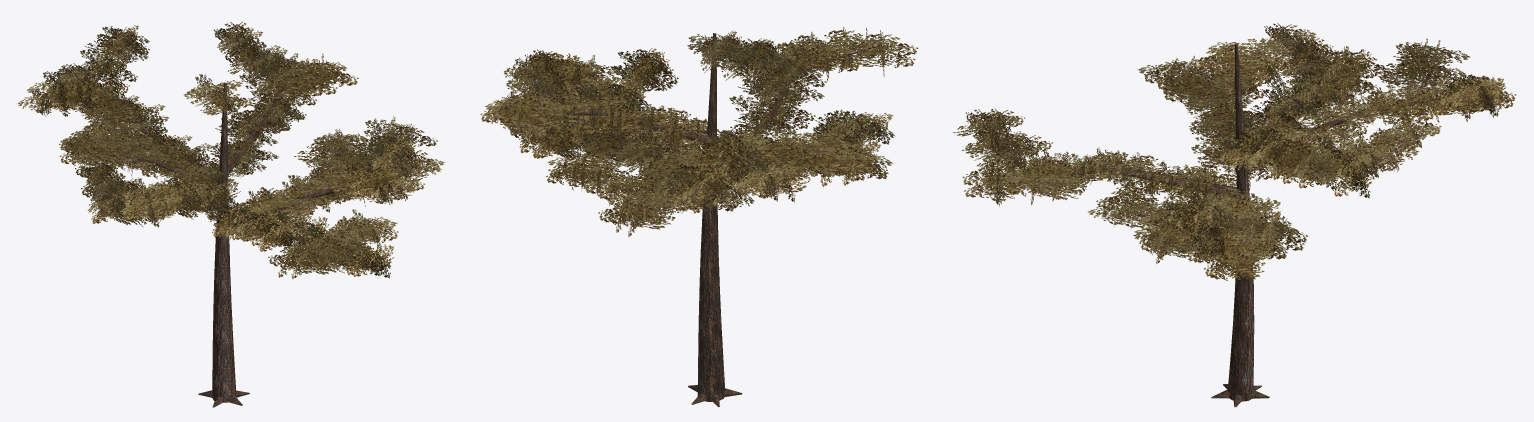
The model's file is tree_3d_05_golden_beige_lod0.glb.
3 views of the same model, side by side, from view 1: azimuth 30°, elevation 25°; view 2: azimuth 150°, elevation 25°; view 3: azimuth 270°, elevation 25° (orthographic). The views are drawn at different scales.
Visible parts, largest first — view 1: foliage_cards, wood_geometry; view 2: foliage_cards, wood_geometry; view 3: foliage_cards, wood_geometry.
Part boxes in pixels (box(x1,y1,x2,y2)): foliage_cards: box(17, 21, 445, 279); wood_geometry: box(51, 46, 410, 407); foliage_cards: box(480, 26, 918, 237); wood_geometry: box(537, 33, 864, 407); foliage_cards: box(953, 23, 1516, 280); wood_geometry: box(988, 44, 1465, 407).
Bounding box in the file's own units: 9.84 × 8.94 × 12.95.
Materials: 2 (2 with a texture image).
